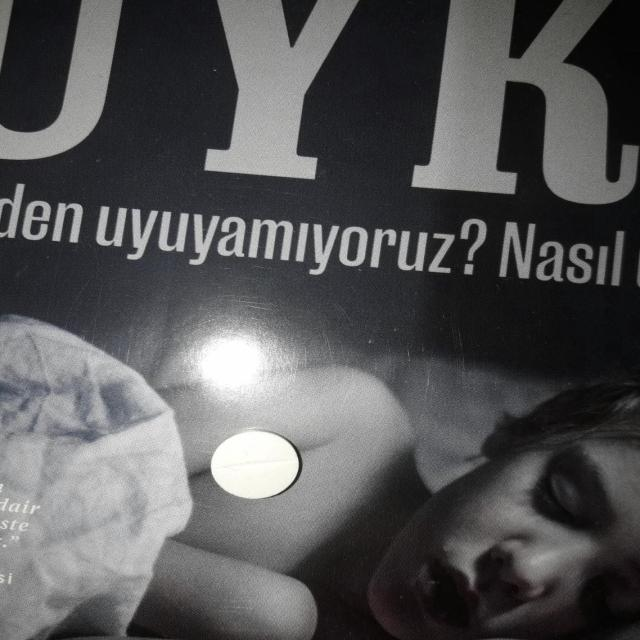pill: (200, 422, 312, 500)
